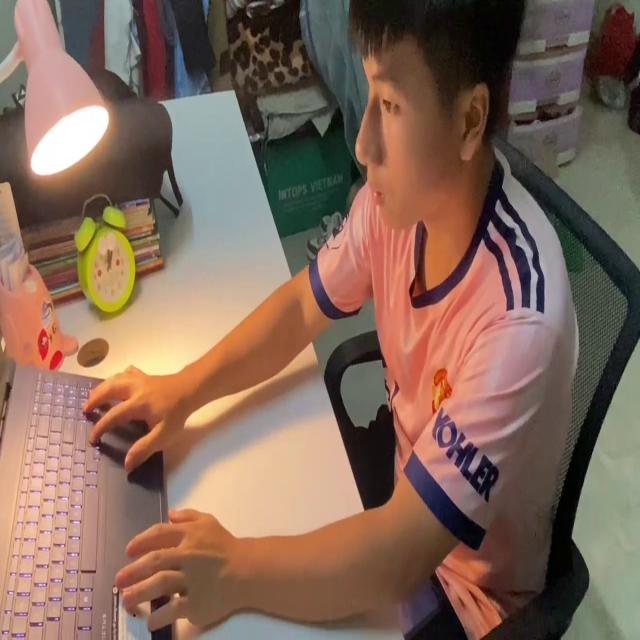laptop: (0, 338, 174, 640)
student: (82, 0, 580, 640)
